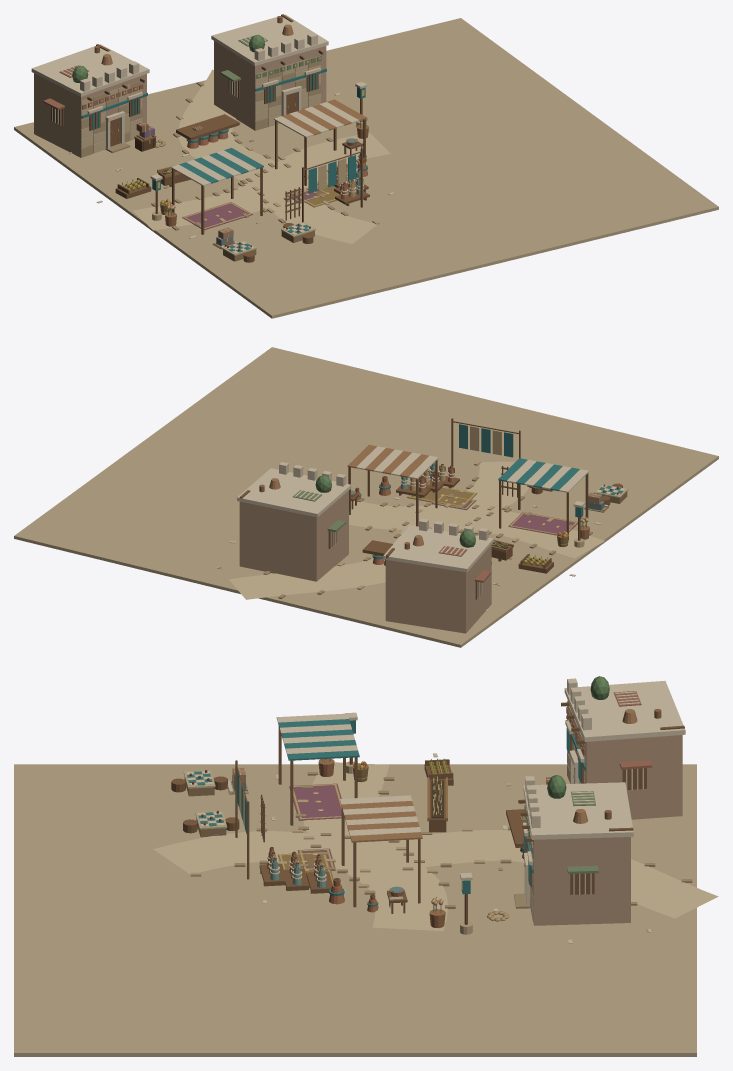
Rendered from city-guest.glb.
3 views of the same model, one above another, from view 1: azimuth 30°, elevation 25°; view 2: azimuth 150°, elevation 25°; view 3: azimuth 270°, elevation 25° (orthographic). The views are drawn at different scales.
Parts seen in each view (by area): view 1: city-guest; view 2: city-guest; view 3: city-guest.
Boxes of the visible parts, x1,y1,x2,y2 form: city-guest: (14, 14, 718, 318); city-guest: (14, 347, 718, 647); city-guest: (14, 676, 718, 1056).
Bounding box in the file's own units: 33.12 × 5.97 × 33.03.
